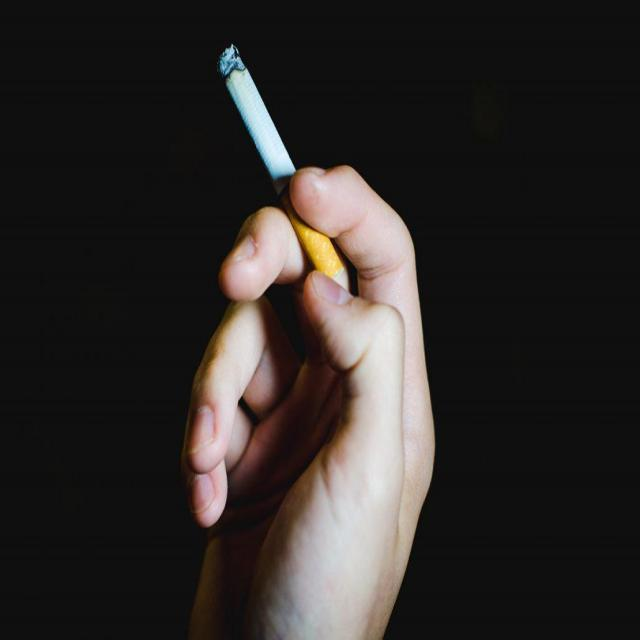cigarette: (216, 29, 336, 240)
